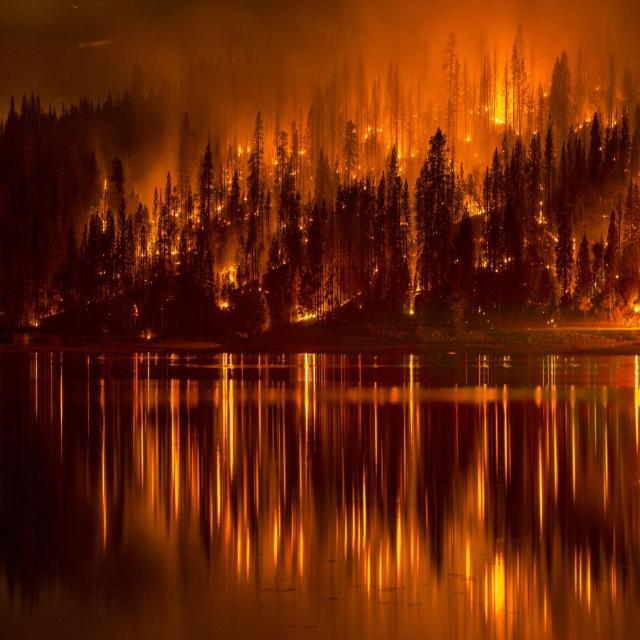Fire: (12, 93, 640, 333)
Smoke: (93, 0, 640, 171)
